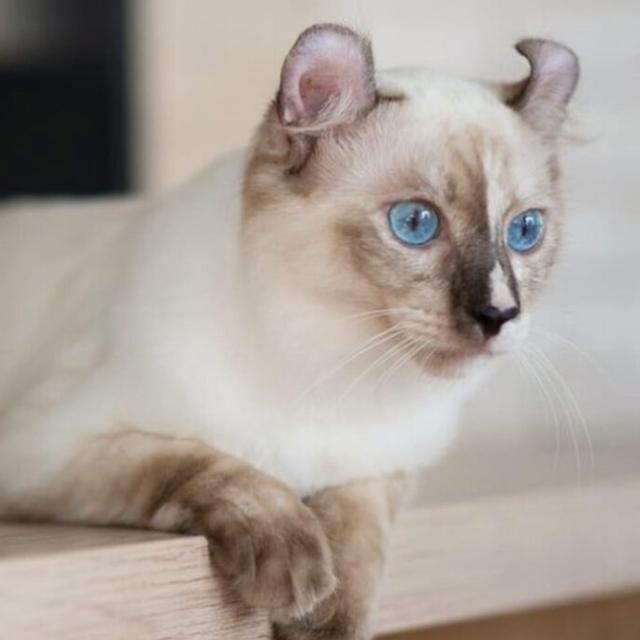American Curl: (0, 15, 587, 640)
